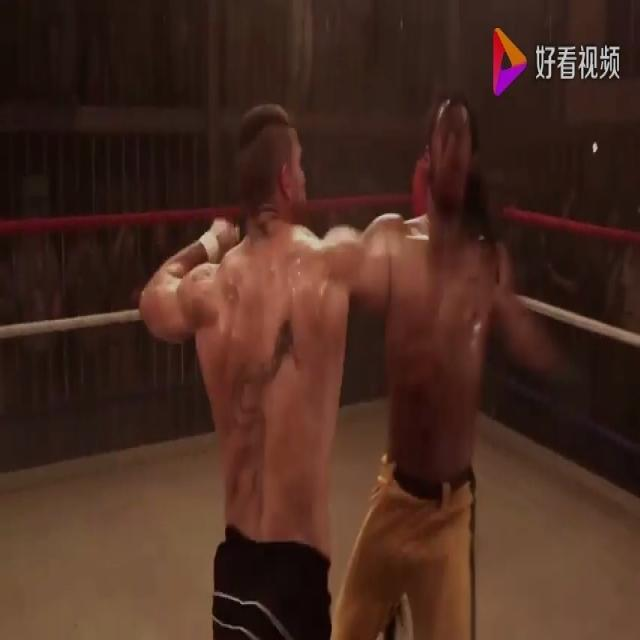fight: (125, 79, 511, 638)
